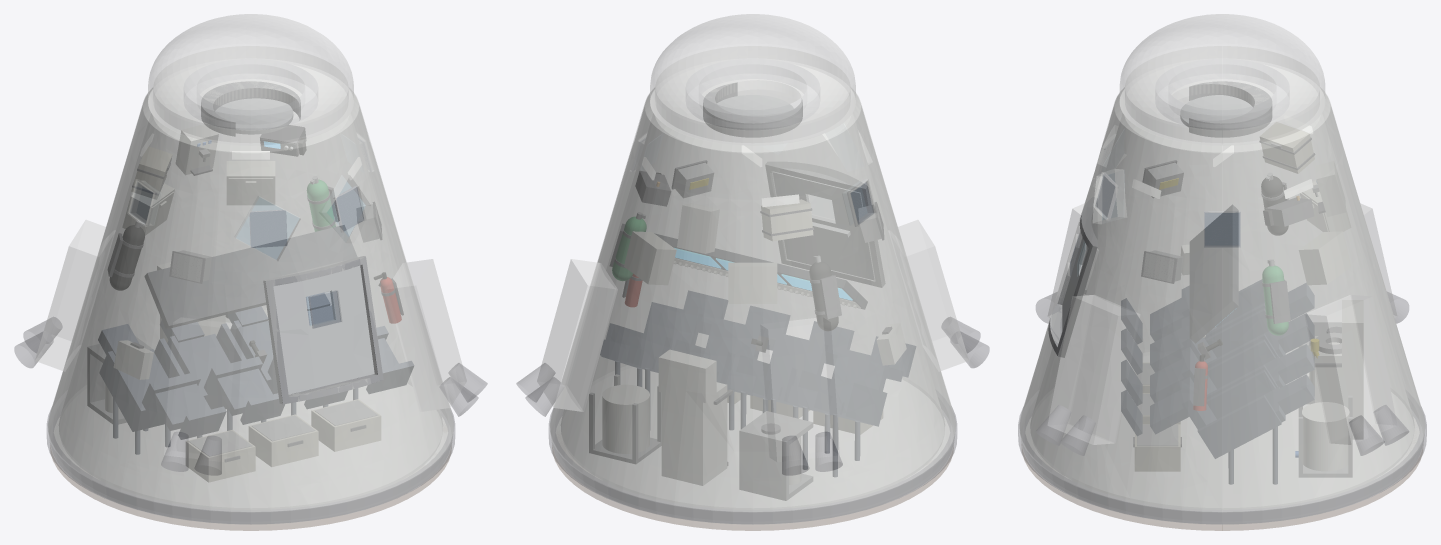
Rendered from cmd05_dragon_capsule_combined.glb.
3 renders of one model, left to right at view 1: azimuth 30°, elevation 25°; view 2: azimuth 150°, elevation 25°; view 3: azimuth 270°, elevation 25°, orthographic.
Parts seen in each view (by area): view 1: pressure_vessel, ext_pressure_hull, ext_superdraco_pods, ext_nosecone, main_console, hatch_door_1, seat_1, ext_trunk_band, seat_2, ext_docking_port, ext_superdraco_nozzles, hatch_tunnel_1 (+24 smaller); view 2: pressure_vessel, ext_pressure_hull, ext_superdraco_pods, ext_nosecone, ext_trunk_band, seat_1, ext_docking_port, hatch_door_1, eq22_1_body, seat_2, seat_4, ext_superdraco_nozzles (+24 smaller); view 3: pressure_vessel, ext_pressure_hull, ext_nosecone, ext_superdraco_pods, seat_4, ext_trunk_band, ext_docking_port, main_console, seat_3, seat_2, ext_superdraco_nozzles, seat_1 (+22 smaller).
Part boxes in pixels (x1,y1,x2,y2): pressure_vessel: [48, 66, 453, 523]; ext_pressure_hull: [48, 88, 453, 524]; ext_superdraco_pods: [35, 220, 466, 461]; ext_nosecone: [148, 14, 353, 144]; main_console: [145, 225, 356, 328]; hatch_door_1: [273, 265, 374, 394]; seat_1: [98, 324, 226, 454]; ext_trunk_band: [47, 408, 454, 524]; seat_2: [160, 321, 284, 437]; ext_docking_port: [184, 59, 317, 129]; ext_superdraco_nozzles: [14, 317, 487, 475]; hatch_tunnel_1: [263, 256, 383, 404]; pressure_vessel: [550, 66, 955, 523]; ext_pressure_hull: [550, 88, 955, 524]; ext_superdraco_pods: [537, 220, 968, 461]; ext_nosecone: [650, 14, 855, 144]; ext_trunk_band: [549, 408, 956, 524]; seat_1: [788, 336, 915, 476]; ext_docking_port: [686, 59, 819, 129]; hatch_door_1: [773, 172, 874, 279]; eq22_1_body: [662, 382, 726, 485]; seat_2: [726, 321, 853, 428]; seat_4: [600, 290, 727, 392]; ext_superdraco_nozzles: [516, 317, 989, 475]; pressure_vessel: [1020, 66, 1424, 523]; ext_pressure_hull: [1019, 89, 1425, 524]; ext_nosecone: [1120, 14, 1324, 145]; ext_superdraco_pods: [1047, 203, 1397, 444]; seat_4: [1121, 370, 1314, 484]; ext_trunk_band: [1018, 407, 1426, 524]; ext_docking_port: [1155, 59, 1289, 129]; main_console: [1190, 205, 1238, 343]; seat_3: [1121, 340, 1314, 405]; seat_2: [1121, 308, 1314, 374]; ext_superdraco_nozzles: [1036, 292, 1408, 455]; seat_1: [1121, 280, 1314, 344].
Size of the model in its own units: 3.77 by 4.59 by 3.77.
